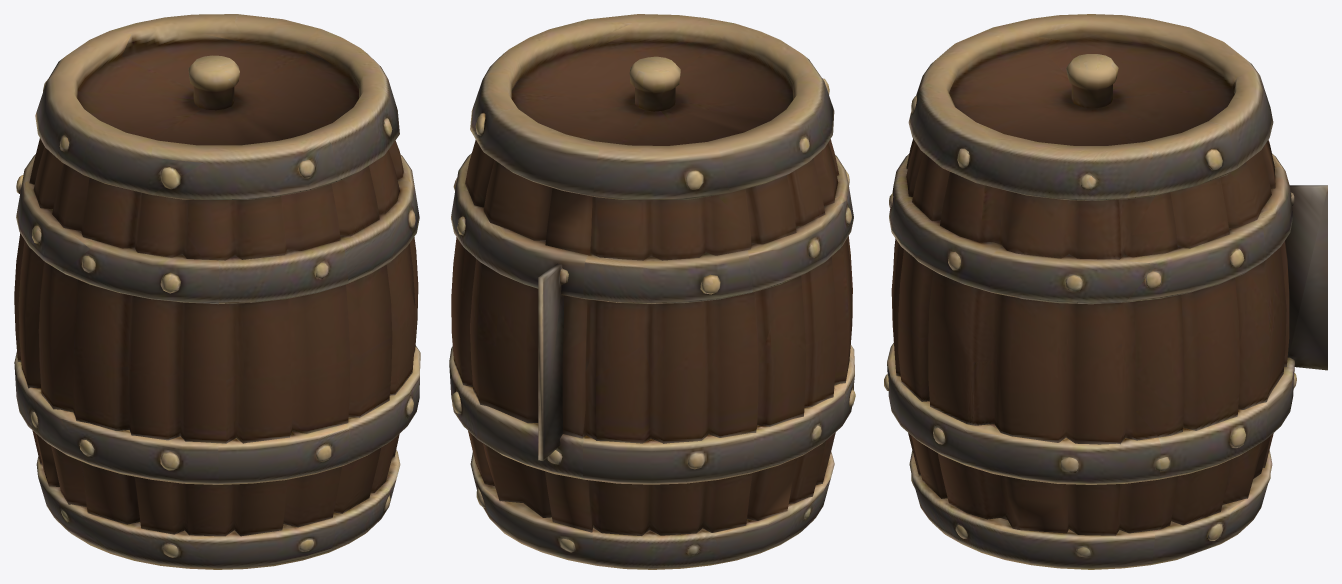
The model's file is prop_keg.glb.
3 renders of one model, left to right at view 1: azimuth 30°, elevation 25°; view 2: azimuth 150°, elevation 25°; view 3: azimuth 270°, elevation 25°, orthographic.
Visible parts, largest first — view 1: tripo_node_63ce4c65-f330-4a74-b1e4-af34c31e7b6f; view 2: tripo_node_63ce4c65-f330-4a74-b1e4-af34c31e7b6f; view 3: tripo_node_63ce4c65-f330-4a74-b1e4-af34c31e7b6f.
Boxes of the visible parts, x1,y1,x2,y2 form: tripo_node_63ce4c65-f330-4a74-b1e4-af34c31e7b6f: (14, 14, 420, 569); tripo_node_63ce4c65-f330-4a74-b1e4-af34c31e7b6f: (449, 14, 855, 569); tripo_node_63ce4c65-f330-4a74-b1e4-af34c31e7b6f: (884, 14, 1327, 569).
Bounding box in the file's own units: 0.8496 × 0.998 × 0.9238.
1 material, 1 textured.
